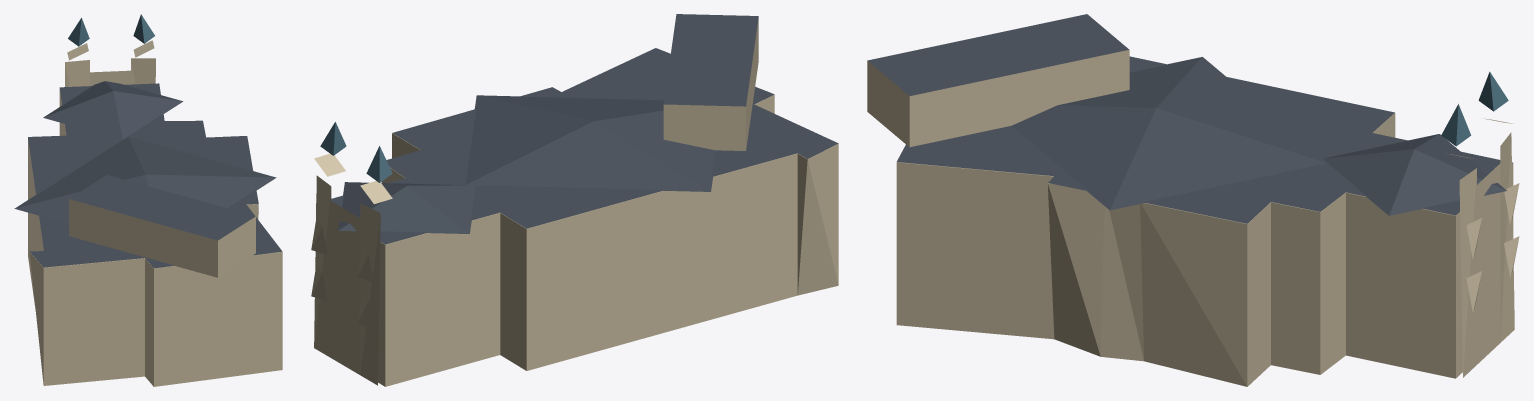
Rendered from tuschinski.lod2.glb.
3 views of the same model, side by side, from view 1: azimuth 30°, elevation 25°; view 2: azimuth 150°, elevation 25°; view 3: azimuth 270°, elevation 25° (orthographic). The views are drawn at different scales.
Visible parts, largest first — view 1: lod2; view 2: lod2; view 3: lod2.
Part boxes in pixels (x1,y1,x2,y2): lod2: (14, 14, 282, 386); lod2: (311, 14, 838, 386); lod2: (867, 14, 1519, 386).
Bounding box in the file's own units: 48.38 × 30.76 × 68.99.
